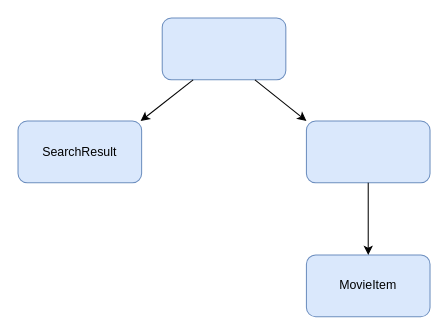
Image size: 448x335. Some labels were removed from this diagram. The box of each missing label's shape, as (x1, y1, x2, y2) in pixels:
APP: (161, 17, 286, 80)
Filtering: (305, 120, 430, 183)
